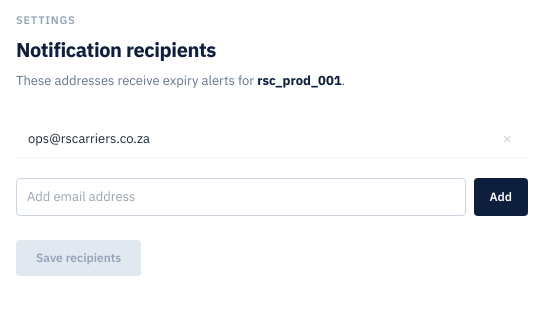
Scenario: NotificationRecipientsPage › marks form as dirty after adding a recipient
The width and height of the screenshot is (546, 332).
Type "new@rscarriers.co.za" into the field with placeholder "Add email address".
click(241, 197); type("new@rscarriers.co.za")  # box left=16, top=178, right=466, bottom=216
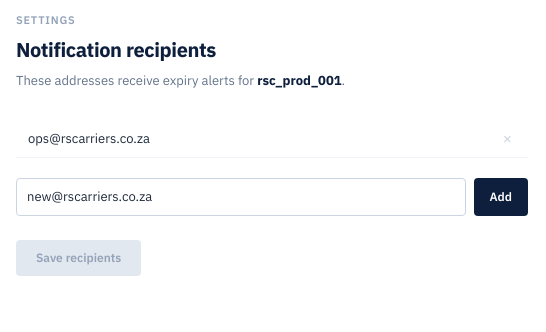
Click the button "Add".
click(501, 197)  # box left=474, top=178, right=528, bottom=216
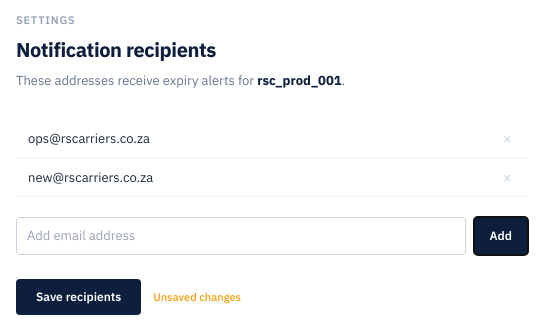
Result: the text "Unsaved changes" is shown at left=153, top=290, right=241, bottom=304
